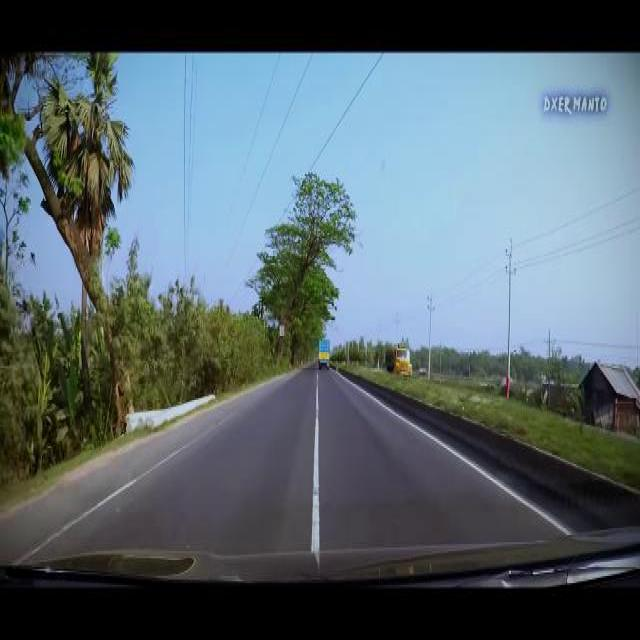vehicle: (385, 343, 414, 377), (317, 337, 332, 373)
